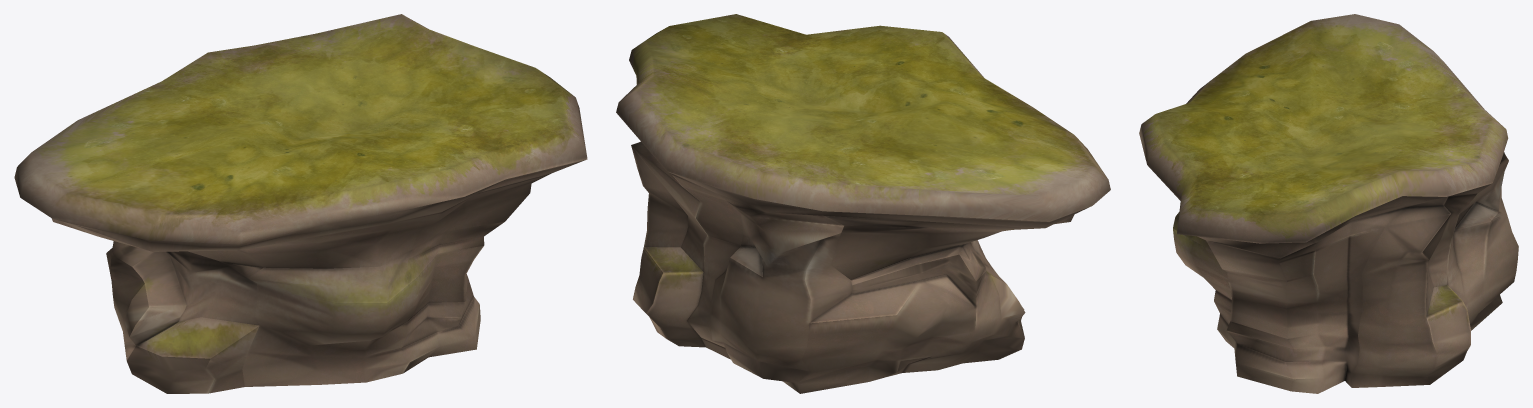
The model's file is rock_02.FBX.
The picture shows the model from 3 angles, left to right: view 1: azimuth 30°, elevation 25°; view 2: azimuth 150°, elevation 25°; view 3: azimuth 270°, elevation 25°; orthographic projection. The views are drawn at different scales.
Visible parts, largest first — view 1: rock_02; view 2: rock_02; view 3: rock_02.
Boxes of the visible parts, <box> form: rock_02: <box>14,14,587,393</box>; rock_02: <box>616,14,1110,393</box>; rock_02: <box>1139,14,1518,393</box>.
Size of the model in its own units: 1625 by 759 by 1174.
